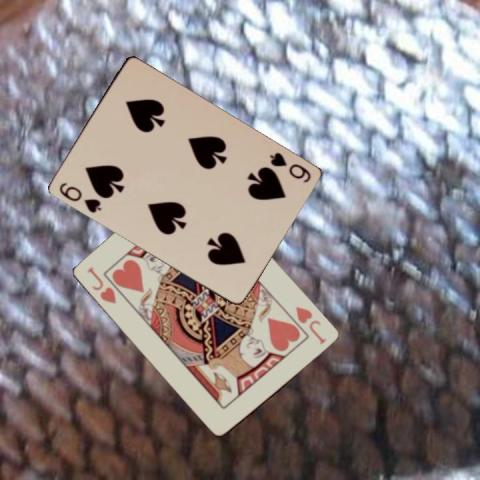6s: (55, 178, 102, 214), (266, 148, 312, 184)
Jh: (292, 303, 328, 346), (84, 264, 118, 305)
